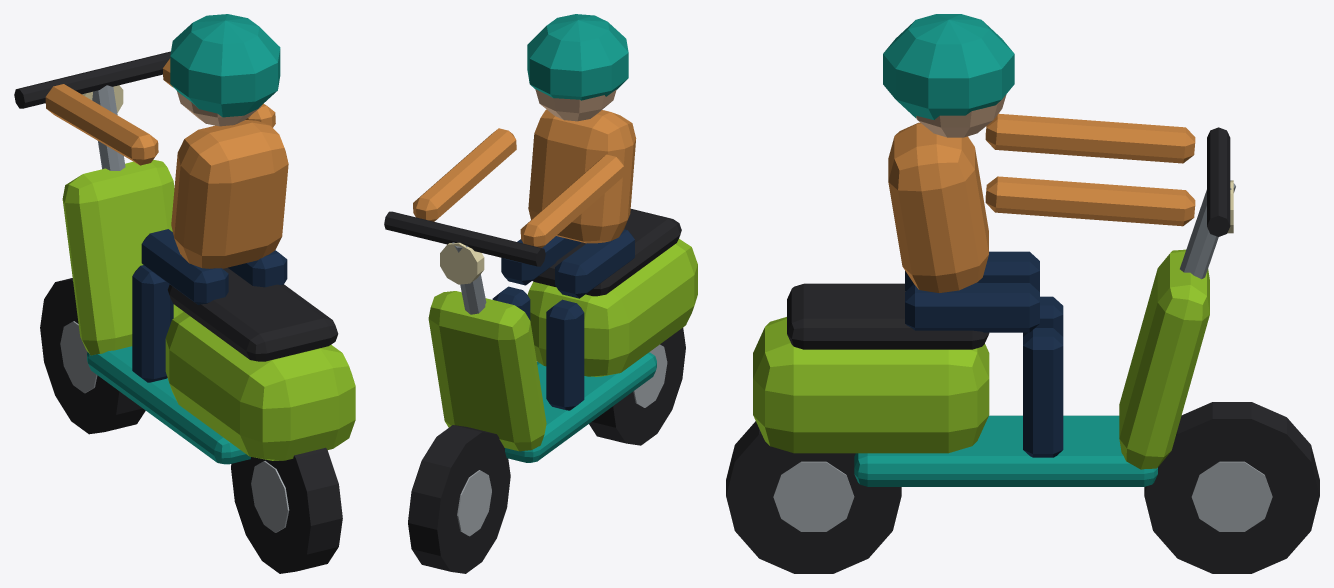
File: scooter.glb
The picture shows the model from 3 angles, left to right: view 1: azimuth 30°, elevation 25°; view 2: azimuth 150°, elevation 25°; view 3: azimuth 270°, elevation 25°; orthographic projection. The views are drawn at different scales.
Visible parts, largest first — view 1: scooter; view 2: scooter; view 3: scooter.
Part boxes in pixels (bbox=[...]): scooter: bbox=[14, 14, 355, 573]; scooter: bbox=[384, 14, 697, 573]; scooter: bbox=[726, 14, 1319, 573].
Size of the model in its own units: 0.62 by 1.78 by 1.76.
